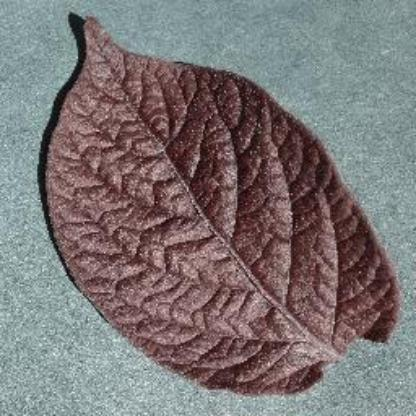Healthy-plant: (38, 19, 404, 393)
